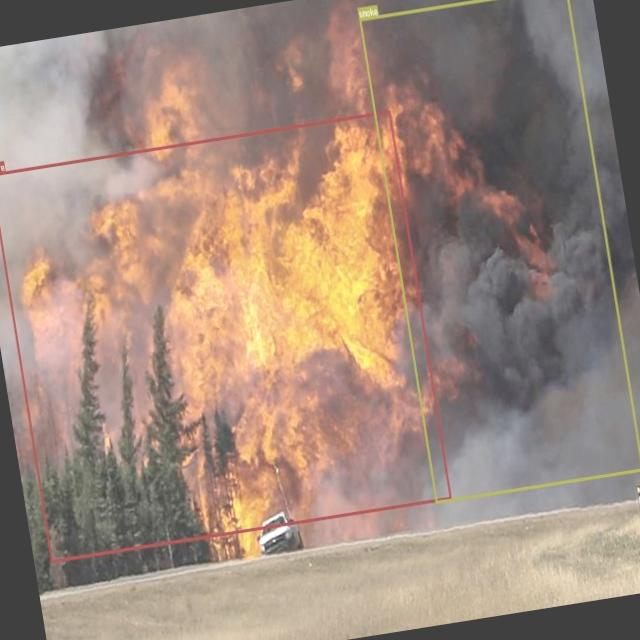fire: (0, 109, 451, 562)
smoke: (358, 0, 640, 503)
